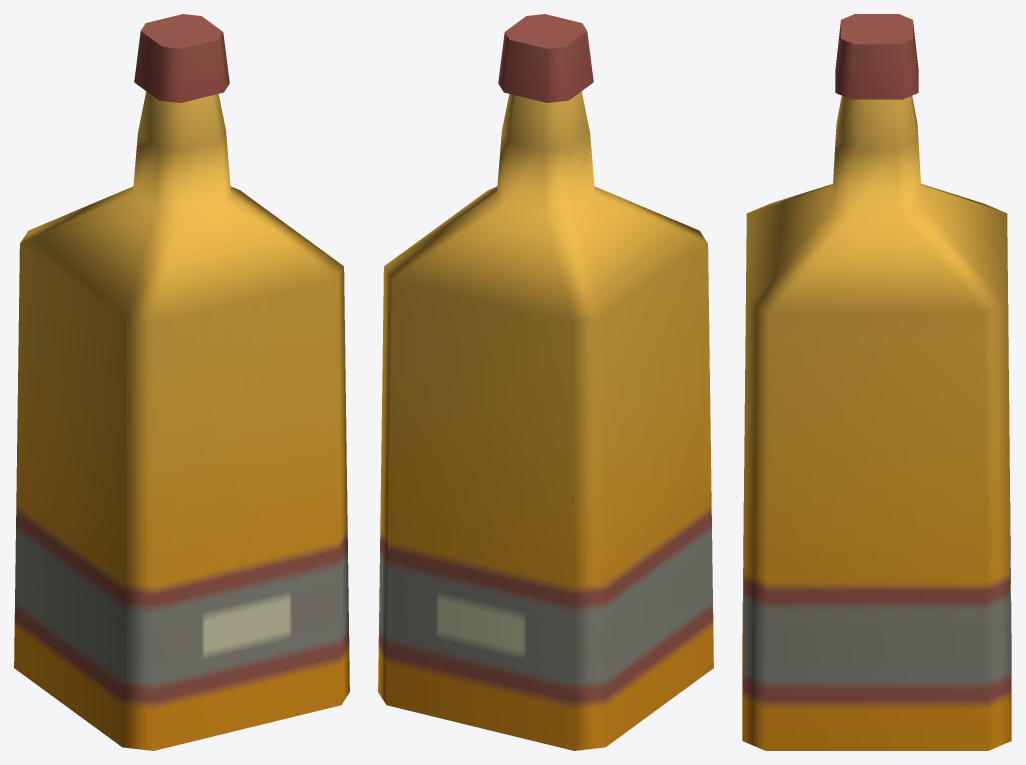
Rendered from SM_Whiskey_Bottle_1_03.fbx.
3 renders of one model, left to right at view 1: azimuth 30°, elevation 25°; view 2: azimuth 150°, elevation 25°; view 3: azimuth 270°, elevation 25°, orthographic. The views are drawn at different scales.
Parts seen in each view (by area): view 1: SM_Whiskey_Bottle_1_03; view 2: SM_Whiskey_Bottle_1_03; view 3: SM_Whiskey_Bottle_1_03.
Boxes of the visible parts, x1,y1,x2,y2 form: SM_Whiskey_Bottle_1_03: [14, 14, 349, 750]; SM_Whiskey_Bottle_1_03: [378, 14, 713, 750]; SM_Whiskey_Bottle_1_03: [742, 14, 1011, 750].
Bounding box in the file's own units: 9.18 × 25.01 × 9.18.
